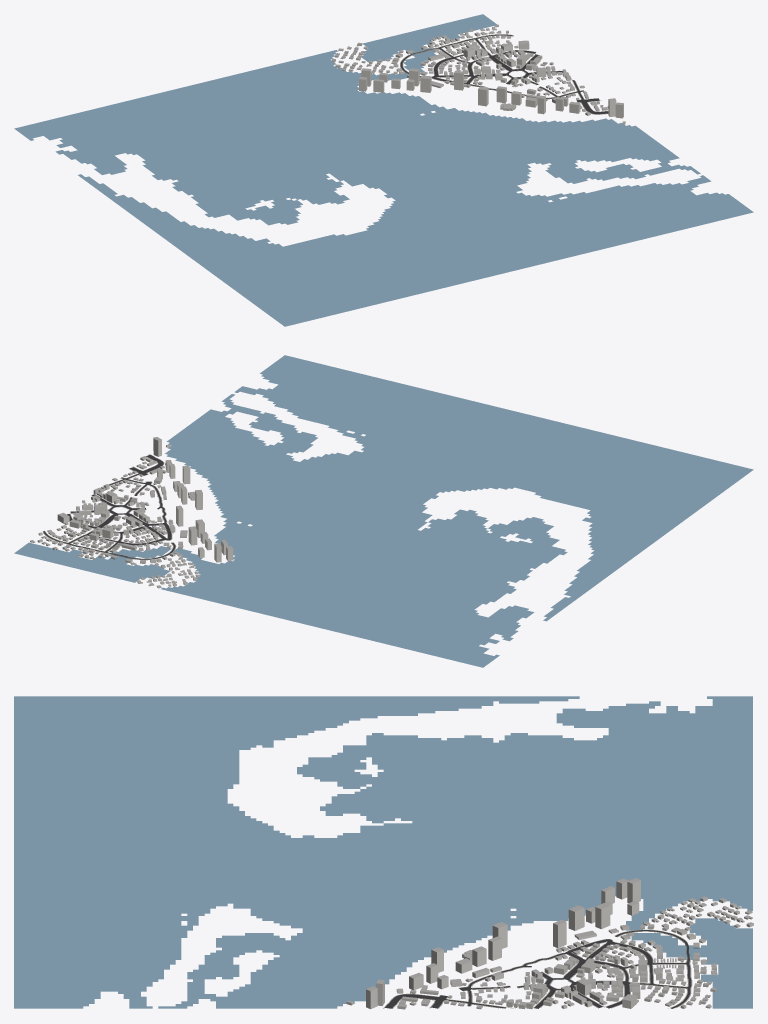
Rendered from chunk_4_5.glb.
The picture shows the model from 3 angles, top to bottom: view 1: azimuth 30°, elevation 25°; view 2: azimuth 150°, elevation 25°; view 3: azimuth 270°, elevation 25°; orthographic projection. The views are drawn at different scales.
Parts seen in each view (by area): view 1: Water_4_5, Filler_4_5, Roads_4_5, RoadSides_4_5; view 2: Water_4_5, Filler_4_5, Roads_4_5, RoadSides_4_5; view 3: Water_4_5, Filler_4_5, Roads_4_5, RoadSides_4_5.
Boxes of the visible parts, left/top/right/bottom form: Water_4_5: left=14, top=14, right=753, bottom=326; Filler_4_5: left=331, top=24, right=625, bottom=124; Roads_4_5: left=400, top=34, right=608, bottom=114; RoadSides_4_5: left=400, top=34, right=608, bottom=114; Water_4_5: left=14, top=355, right=753, bottom=667; Filler_4_5: left=30, top=437, right=233, bottom=588; Roads_4_5: left=43, top=455, right=175, bottom=559; RoadSides_4_5: left=43, top=454, right=176, bottom=560; Water_4_5: left=14, top=696, right=752, bottom=1008; Filler_4_5: left=346, top=878, right=753, bottom=1009; Roads_4_5: left=385, top=930, right=691, bottom=1008; RoadSides_4_5: left=383, top=929, right=692, bottom=1008.
Size of the model in its own units: 2054 by 73.19 by 2051.
